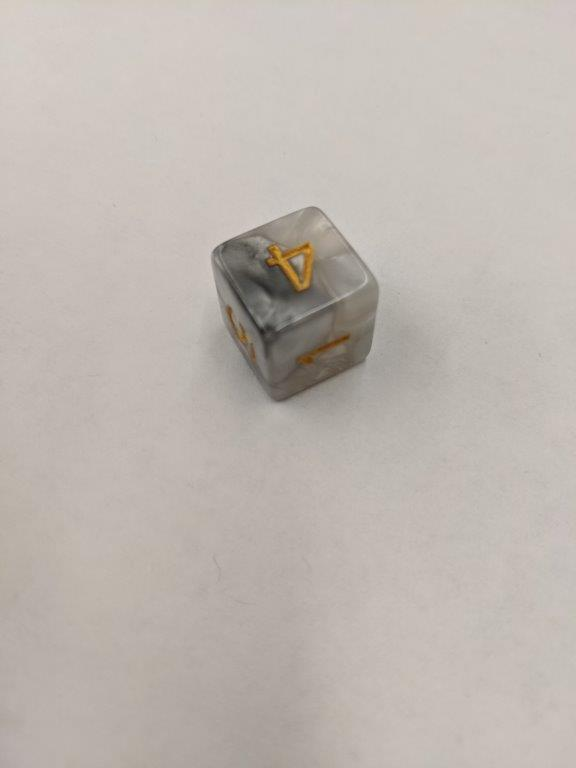d6-4: (208, 206, 378, 399)
